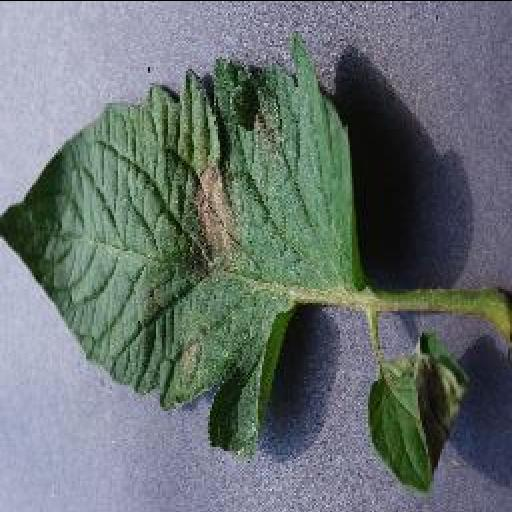disease_tomato: (0, 30, 364, 460), (360, 325, 468, 495)
